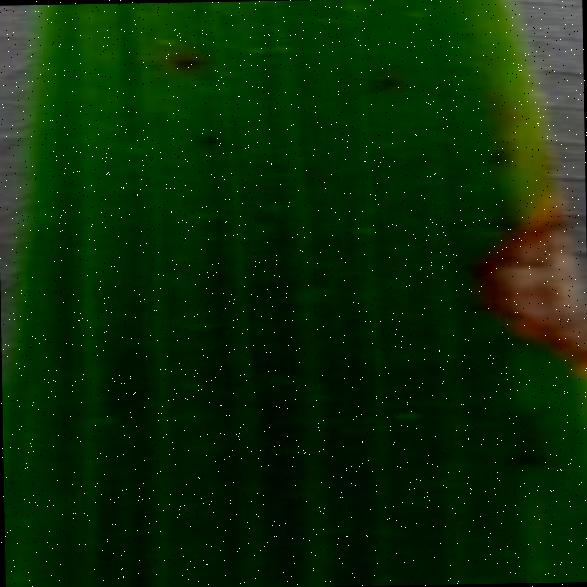Leaf_smut: (434, 178, 586, 394)
